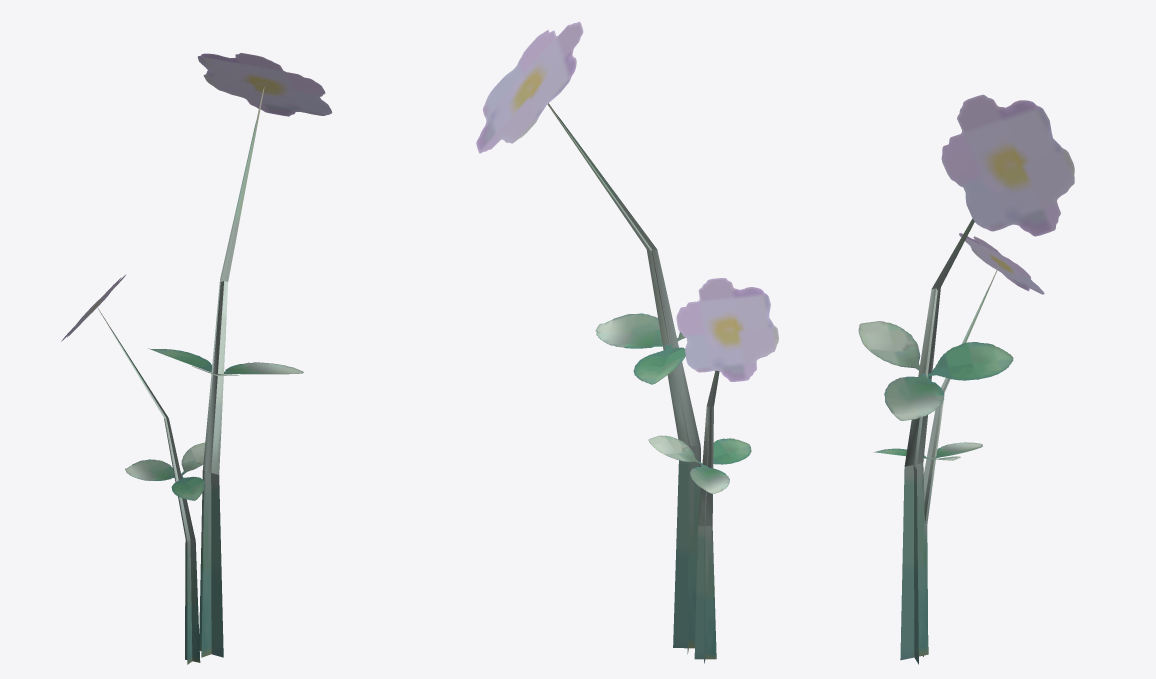
File: pref_sm_beach_winter_techflower09_lv3.fbx
The picture shows the model from 3 angles, left to right: view 1: azimuth 30°, elevation 25°; view 2: azimuth 150°, elevation 25°; view 3: azimuth 270°, elevation 25°; orthographic projection. The views are drawn at different scales.
Parts seen in each view (by area): view 1: pref_sm_beach_winter_techflower09_lv3; view 2: pref_sm_beach_winter_techflower09_lv3; view 3: pref_sm_beach_winter_techflower09_lv3.
Part boxes in pixels (box(x1,y1,x2,y2)): pref_sm_beach_winter_techflower09_lv3: box(61, 53, 332, 664); pref_sm_beach_winter_techflower09_lv3: box(476, 21, 778, 663); pref_sm_beach_winter_techflower09_lv3: box(858, 94, 1074, 664).
Size of the model in its own units: 0.2408 by 0.436 by 0.1906.
